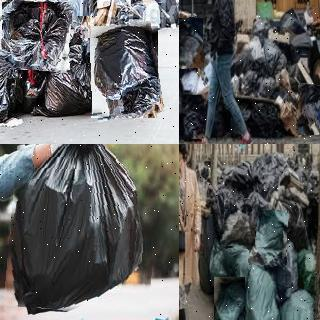Garbage: (8, 144, 162, 314), (88, 24, 161, 120), (1, 1, 72, 72), (39, 39, 102, 116), (241, 260, 282, 320), (233, 34, 285, 76), (250, 209, 288, 266), (222, 197, 258, 249), (243, 98, 287, 137), (8, 0, 97, 16), (214, 277, 245, 320), (277, 288, 318, 320), (179, 17, 204, 69), (296, 84, 320, 135), (183, 95, 204, 139)
